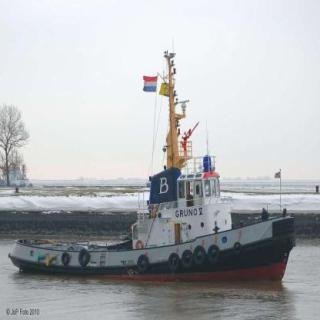Tug Boat: (44, 88, 295, 278)
